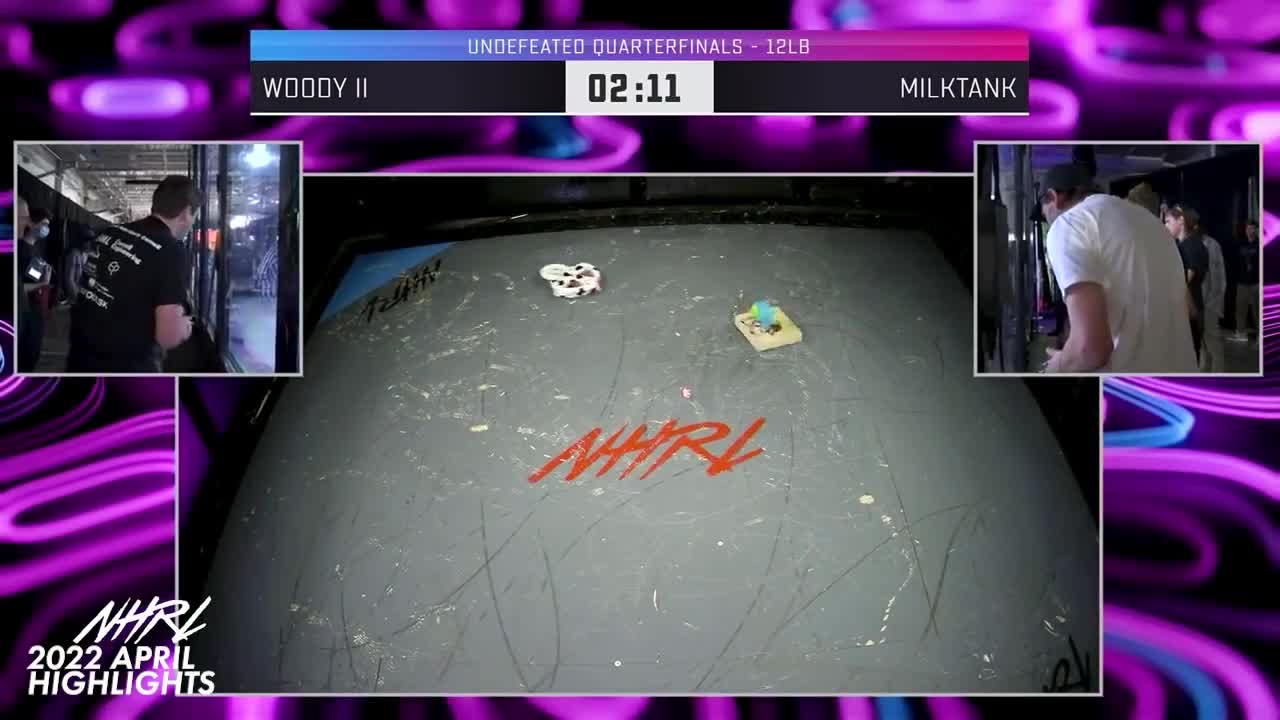combatbot: (730, 297, 803, 351), (538, 262, 605, 300)
